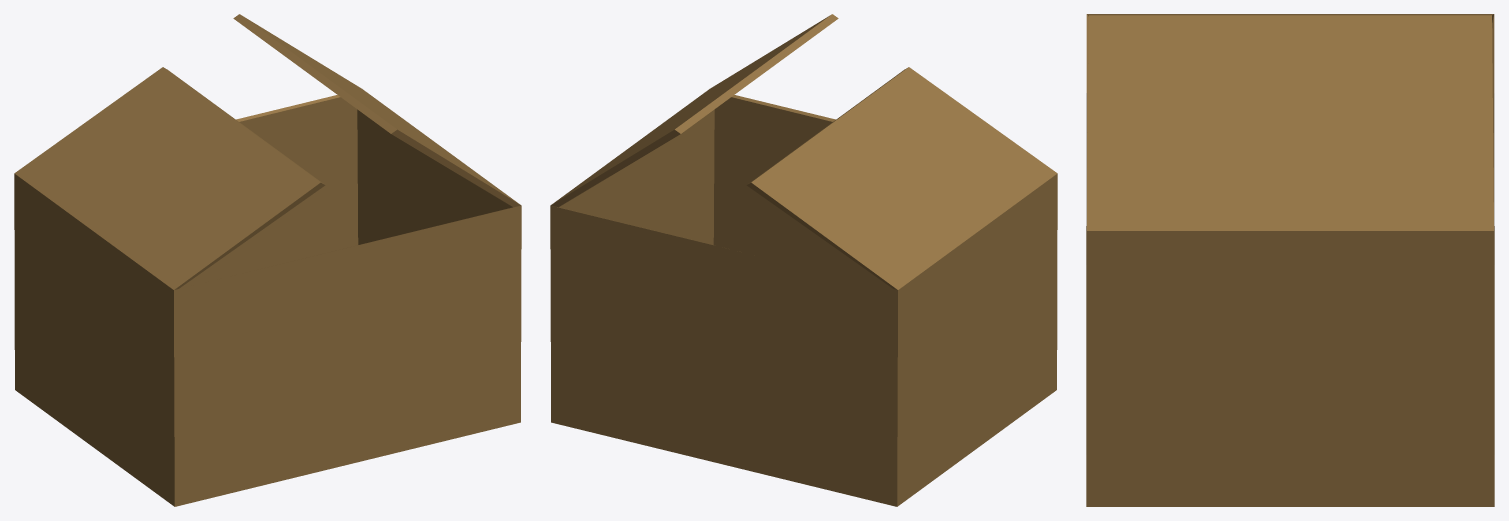
The model's file is parcel1.fbx.
3 renders of one model, left to right at view 1: azimuth 30°, elevation 25°; view 2: azimuth 150°, elevation 25°; view 3: azimuth 270°, elevation 25°, orthographic. The views are drawn at different scales.
Visible parts, largest first — view 1: Cube; view 2: Cube; view 3: Cube.
Part boxes in pixels (x1,y1,x2,y2): Cube: (14,14,521,506); Cube: (550,14,1057,506); Cube: (1086,14,1494,506).
Size of the model in its own units: 102 by 90.06 by 81.
